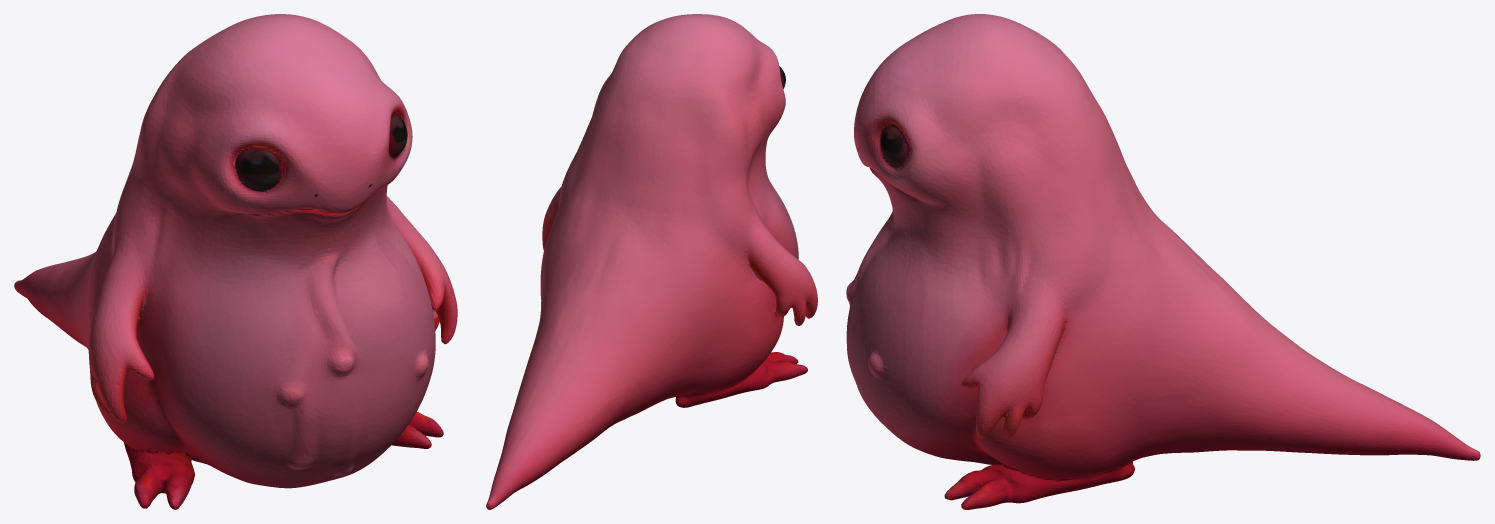
File: blob_pinkslime.glb
3 views of the same model, side by side, from view 1: azimuth 30°, elevation 25°; view 2: azimuth 150°, elevation 25°; view 3: azimuth 270°, elevation 25° (orthographic). The views are drawn at different scales.
Visible parts, largest first — view 1: textured_mesh.obj; view 2: textured_mesh.obj; view 3: textured_mesh.obj.
Boxes of the visible parts, x1,y1,x2,y2 form: textured_mesh.obj: (14,14,457,509); textured_mesh.obj: (486,14,817,509); textured_mesh.obj: (846,14,1480,509).
Size of the model in its own units: 1.19 by 1.5 by 1.99.
Materials: 1 (1 with a texture image).
